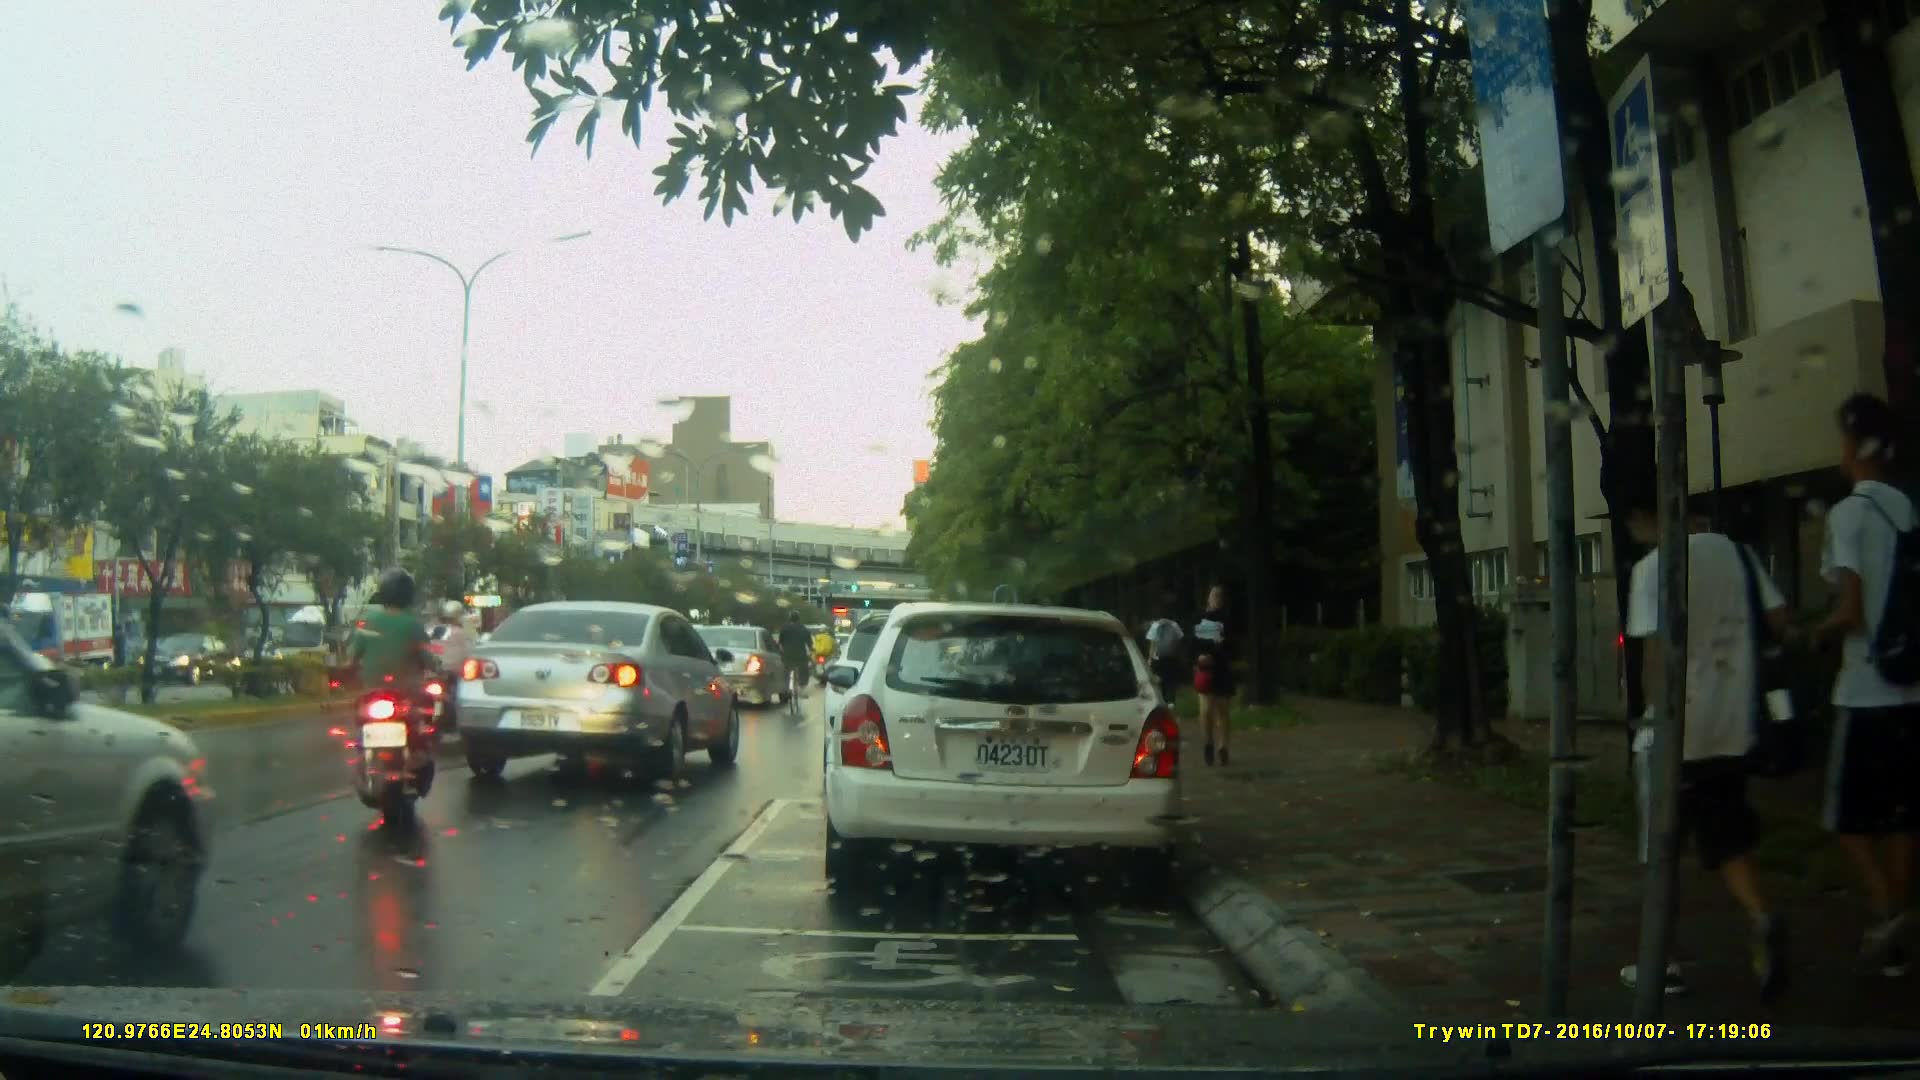pedestrian: (1595, 435, 1759, 1000), (1776, 416, 1876, 967), (1173, 581, 1236, 769), (1145, 604, 1193, 732)
rider: (344, 571, 438, 840), (407, 592, 491, 745), (775, 612, 808, 721), (811, 619, 835, 692)
vehicle: (820, 602, 1188, 898), (1, 553, 223, 985), (450, 596, 744, 789), (1, 587, 127, 699), (660, 625, 794, 710)
